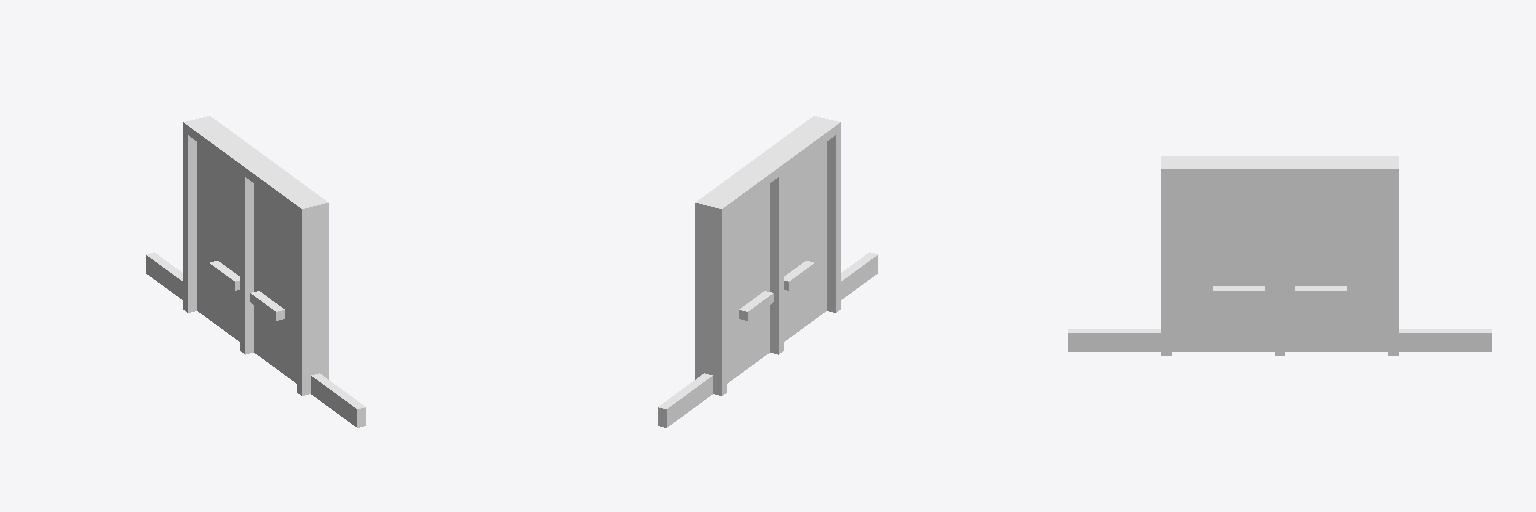
The model's file is wall_base_door.obj.
3 views of the same model, side by side, from view 1: azimuth 30°, elevation 25°; view 2: azimuth 150°, elevation 25°; view 3: azimuth 270°, elevation 25° (orthographic).
Visible parts, largest first — view 1: object 1; view 2: object 1; view 3: object 1.
Part boxes in pixels (bbox=[...]): object 1: bbox=[146, 116, 365, 427]; object 1: bbox=[658, 116, 877, 427]; object 1: bbox=[1068, 156, 1491, 355].
Bounding box in the file's own units: 0.3 × 2 × 4.1.